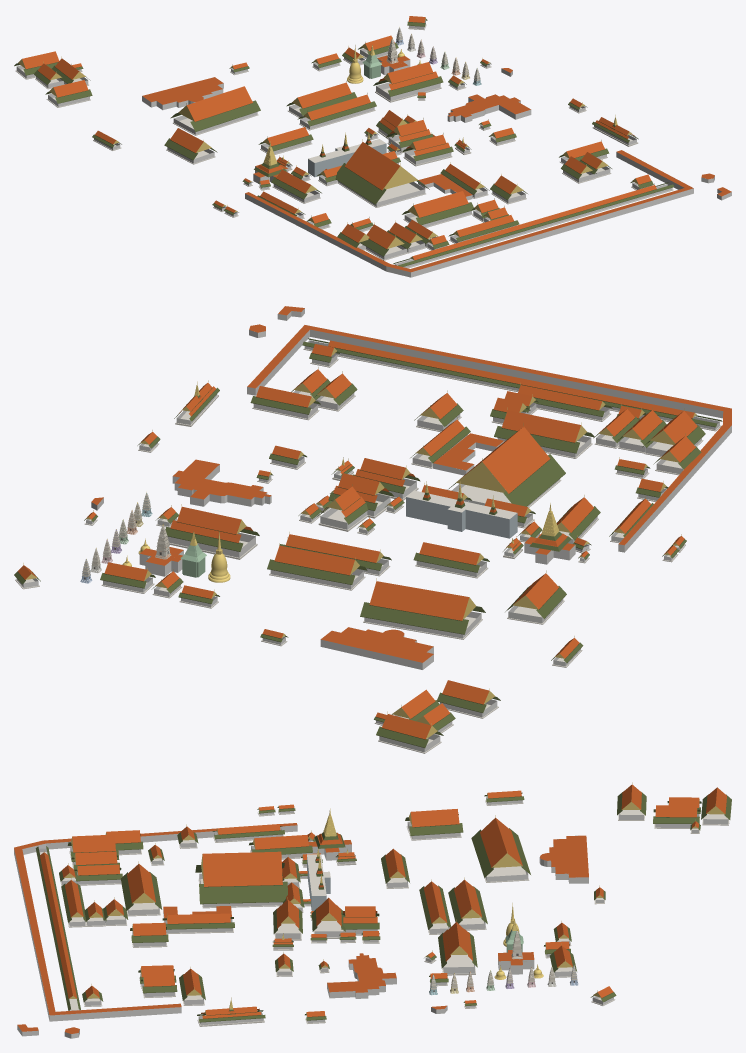
Rendered from grandpalace.glb.
3 renders of one model, top to bottom at view 1: azimuth 30°, elevation 25°; view 2: azimuth 150°, elevation 25°; view 3: azimuth 270°, elevation 25°, orthographic. The views are drawn at different scales.
Parts seen in each view (by area): view 1: grandpalace; view 2: grandpalace; view 3: grandpalace.
Boxes of the visible parts, left/top/right/bottom form: grandpalace: left=14, top=16, right=731, bottom=277; grandpalace: left=14, top=306, right=731, bottom=753; grandpalace: left=14, top=782, right=731, bottom=1038.
Size of the model in its own units: 502 by 42.06 by 632.
